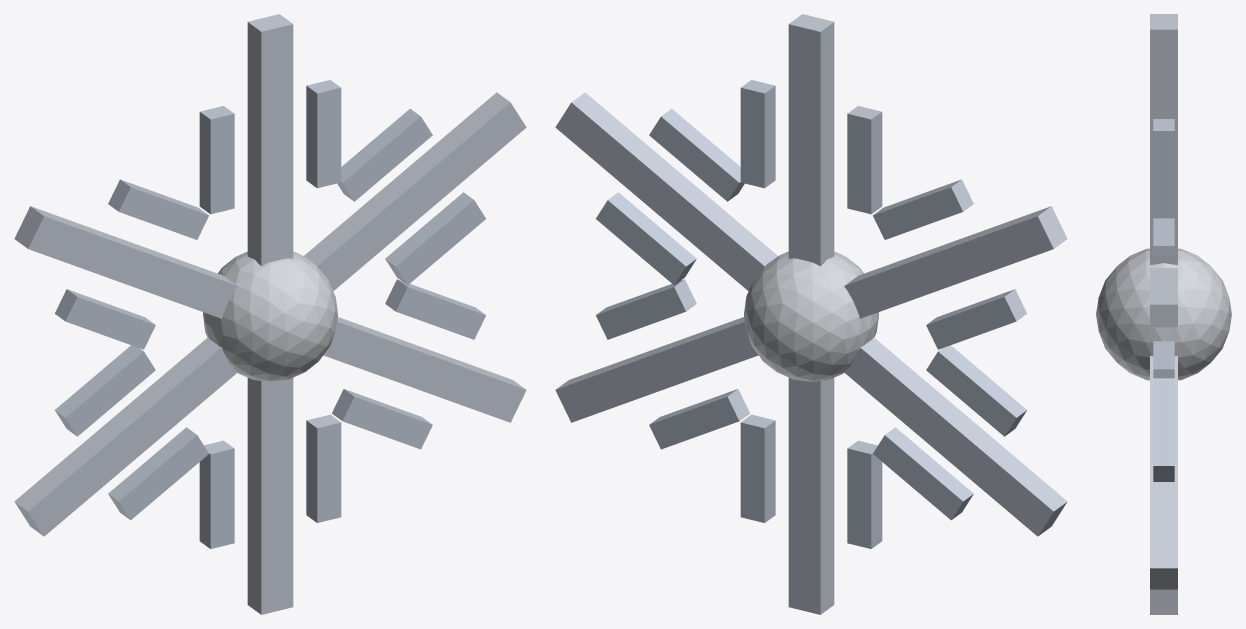
The model's file is snowflake.glb.
3 renders of one model, left to right at view 1: azimuth 30°, elevation 25°; view 2: azimuth 150°, elevation 25°; view 3: azimuth 270°, elevation 25°, orthographic.
Visible parts, largest first — view 1: world; view 2: world; view 3: world.
Part boxes in pixels (x1,y1,x2,y2): world: [14, 14, 526, 614]; world: [555, 14, 1067, 614]; world: [1096, 14, 1231, 614].
Bounding box in the file's own units: 1.87 × 2.09 × 0.44.
